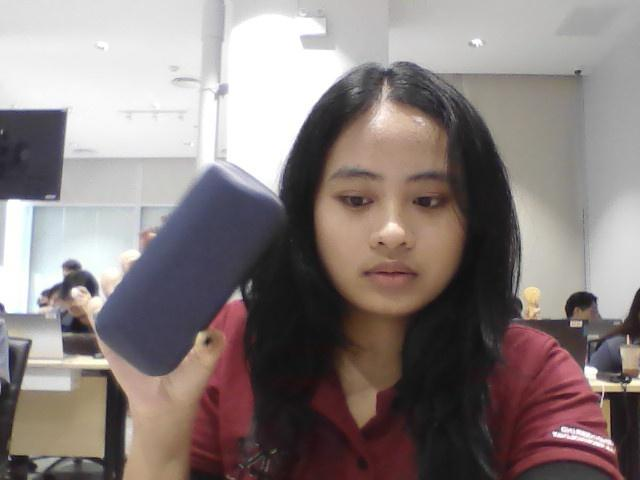glasses box: (90, 141, 292, 384)
